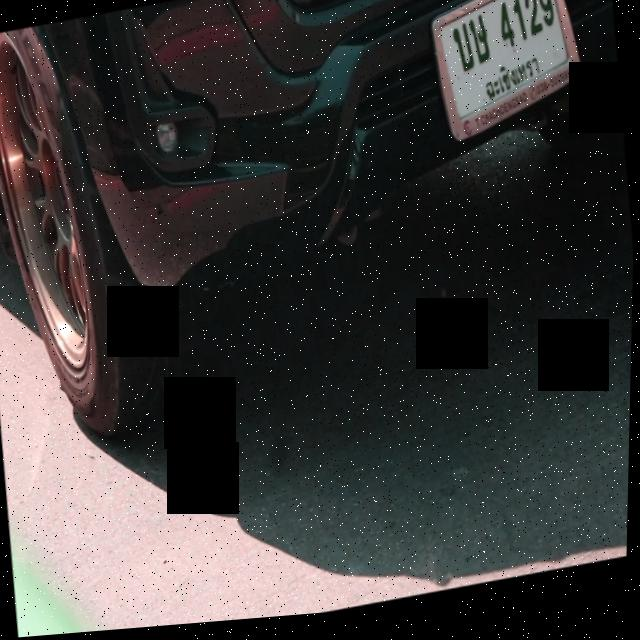text: (441, 0, 567, 126)
